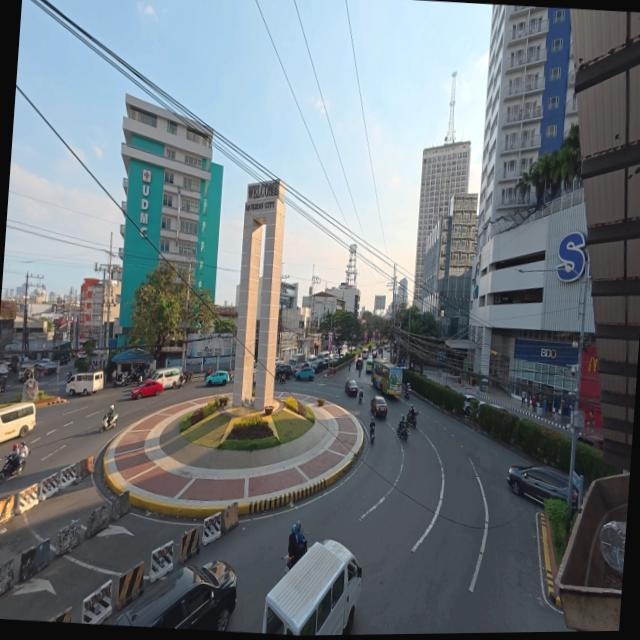bus: (372, 359, 402, 395)
car: (117, 561, 237, 631), (507, 466, 568, 501), (132, 380, 163, 399), (464, 394, 485, 414), (371, 396, 387, 417), (206, 371, 229, 385), (296, 367, 315, 380), (277, 364, 293, 379), (488, 403, 510, 413), (345, 381, 358, 396), (294, 362, 310, 374), (312, 359, 326, 372), (39, 358, 52, 367), (366, 356, 372, 373), (0, 383, 0, 398)
motorcycle: (285, 530, 307, 574), (0, 456, 26, 484), (100, 413, 117, 433), (406, 411, 418, 427), (396, 423, 408, 439), (113, 375, 127, 387), (370, 425, 375, 443), (278, 373, 286, 384), (178, 377, 186, 388), (185, 371, 192, 383), (67, 371, 73, 381), (359, 391, 363, 404), (405, 389, 410, 399)
trucks: (289, 353, 305, 367)
vans: (262, 540, 361, 635), (0, 402, 35, 443), (66, 371, 103, 395), (151, 367, 180, 390), (362, 349, 368, 360)
